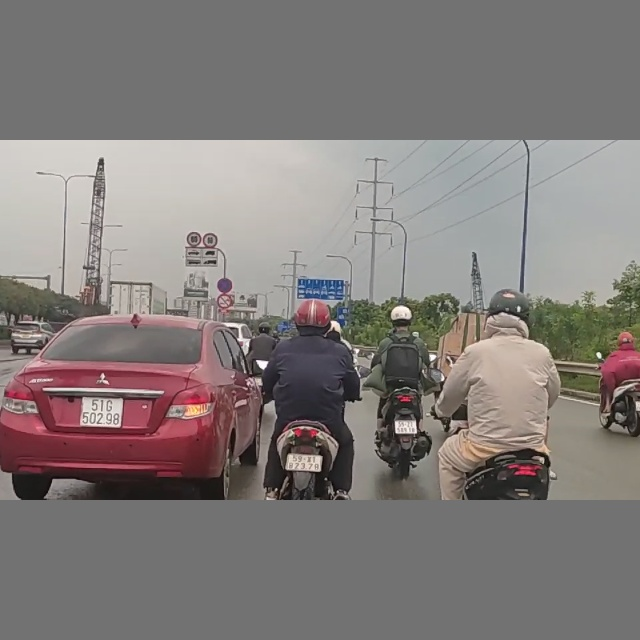P.130: (216, 277, 233, 293)
